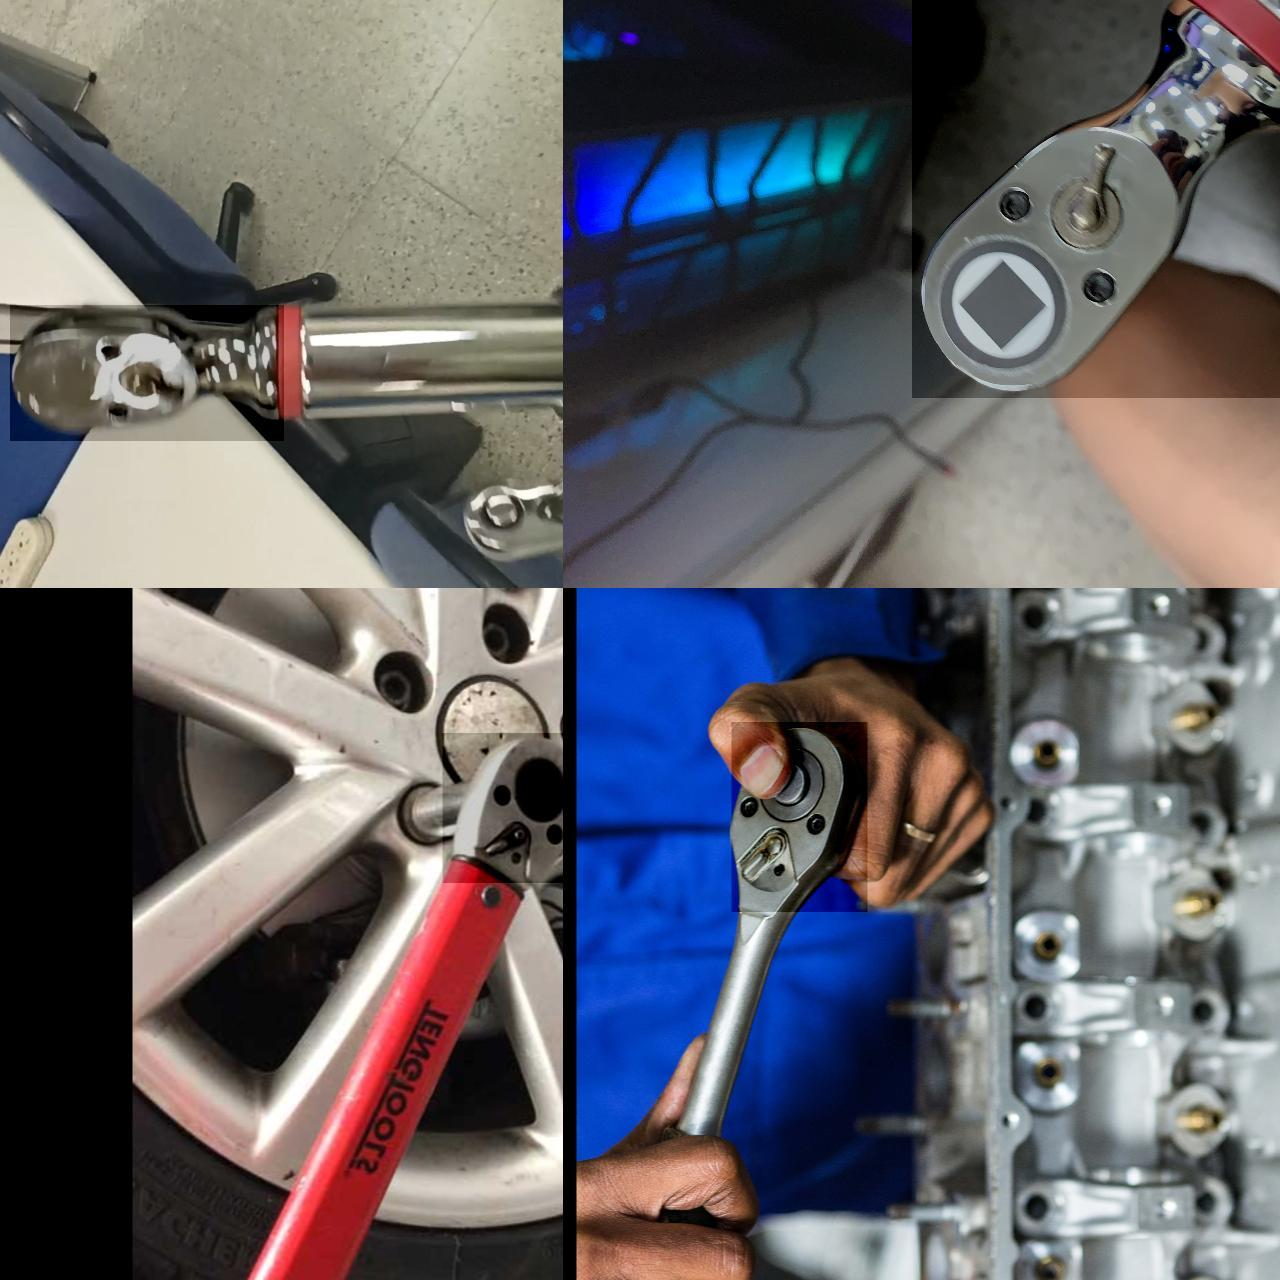Tool: (912, 0, 1280, 397), (11, 304, 284, 440), (731, 721, 867, 911), (442, 731, 563, 881)
